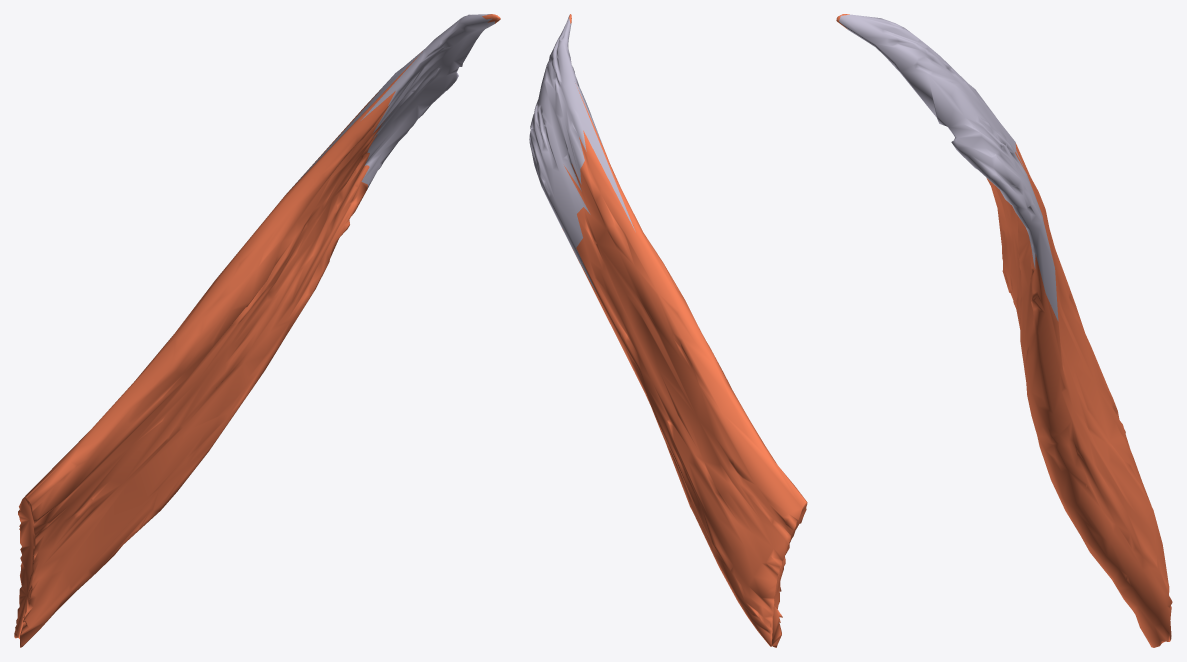
File: Rhomboid_minor_muscle.r_Generated_Mesh_From_X3D.240.glb
3 renders of one model, left to right at view 1: azimuth 30°, elevation 25°; view 2: azimuth 150°, elevation 25°; view 3: azimuth 270°, elevation 25°, orthographic. The views are drawn at different scales.
Visible parts, largest first — view 1: Rhomboid_minor_muscle.r_Generated_Mesh_From_X3D.240; view 2: Rhomboid_minor_muscle.r_Generated_Mesh_From_X3D.240; view 3: Rhomboid_minor_muscle.r_Generated_Mesh_From_X3D.240.
Boxes of the visible parts, <box> form: Rhomboid_minor_muscle.r_Generated_Mesh_From_X3D.240: <box>14,14,500,647</box>; Rhomboid_minor_muscle.r_Generated_Mesh_From_X3D.240: <box>529,14,807,647</box>; Rhomboid_minor_muscle.r_Generated_Mesh_From_X3D.240: <box>836,14,1172,647</box>.
Size of the model in its own units: 0.0654 by 0.101 by 0.0346.
